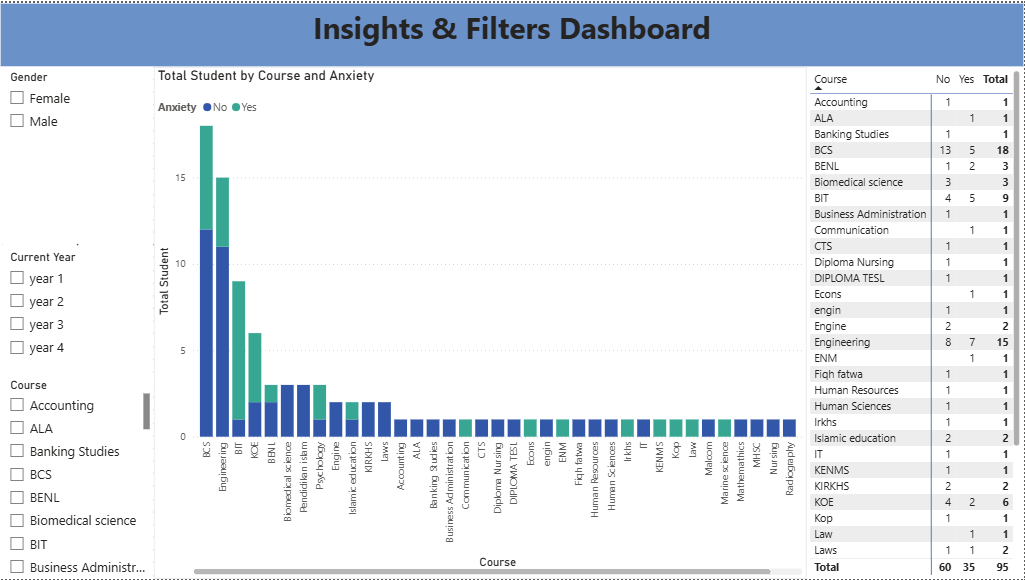

The page's visual inventory and layout, read from the dashboard file:
{"tool":"powerbi","page":{"name":"Insights","canvas":[1280,720],"ordinal":3},"visuals":[{"type":"pivotTable","fields":{"Rows":["Student_health.Course"],"Columns":["Student_health.Depression"],"Values":["Student_health.Total Student"]},"box":[1008,80,272,640],"z":0},{"type":"columnChart","fields":{"Category":["Student_health.Course"],"Series":["Student_health.Anxiety"],"Y":["Student_health.Total Student"]},"box":[192,80,816,640],"z":1},{"type":"textbox","box":[0,0,1280,80],"z":2},{"type":"slicer","fields":{"Values":["Student_health.Gender"]},"box":[0,80,192,208],"z":3},{"type":"slicer","fields":{"Values":["Student_health.Current Year"]},"box":[0,304,192,176],"z":4},{"type":"slicer","fields":{"Values":["Student_health.Course"]},"box":[0,464,192,256],"z":5}]}

Visuals, with their boxes in screenshot pixels (x1, y1, x2, y2), scaled from the page's 1280x720 canvas onto the 1025x580 screenshot:
pivotTable - Student_health.Course x Student_health.Depression: box=[807, 64, 1024, 579]
columnChart - Student_health.Course x Student_health.Anxiety: box=[154, 64, 807, 579]
textbox: box=[0, 0, 1024, 64]
slicer - Student_health.Gender: box=[0, 64, 154, 232]
slicer - Student_health.Current Year: box=[0, 245, 154, 387]
slicer - Student_health.Course: box=[0, 374, 154, 579]
